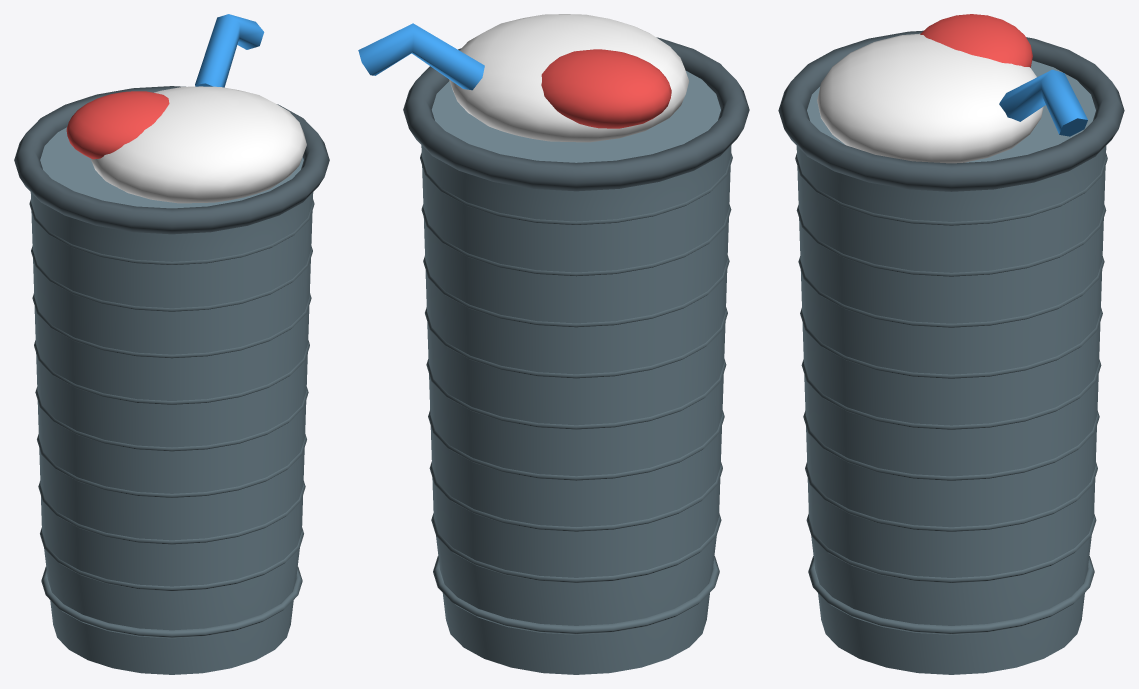
File: hamper.fbx
3 renders of one model, left to right at view 1: azimuth 30°, elevation 25°; view 2: azimuth 150°, elevation 25°; view 3: azimuth 270°, elevation 25°, orthographic. The views are drawn at different scales.
Visible parts, largest first — view 1: Laundry Hamper; view 2: Laundry Hamper; view 3: Laundry Hamper.
Boxes of the visible parts, x1=… form: Laundry Hamper: x1=14, y1=14, x2=329, y2=674; Laundry Hamper: x1=358, y1=14, x2=749, y2=674; Laundry Hamper: x1=778, y1=14, x2=1124, y2=674.
Size of the model in its own units: 0.8699 by 1.64 by 0.85.
